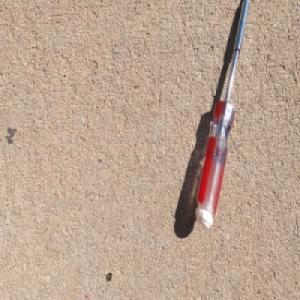Screwdriver: (193, 0, 250, 230)
